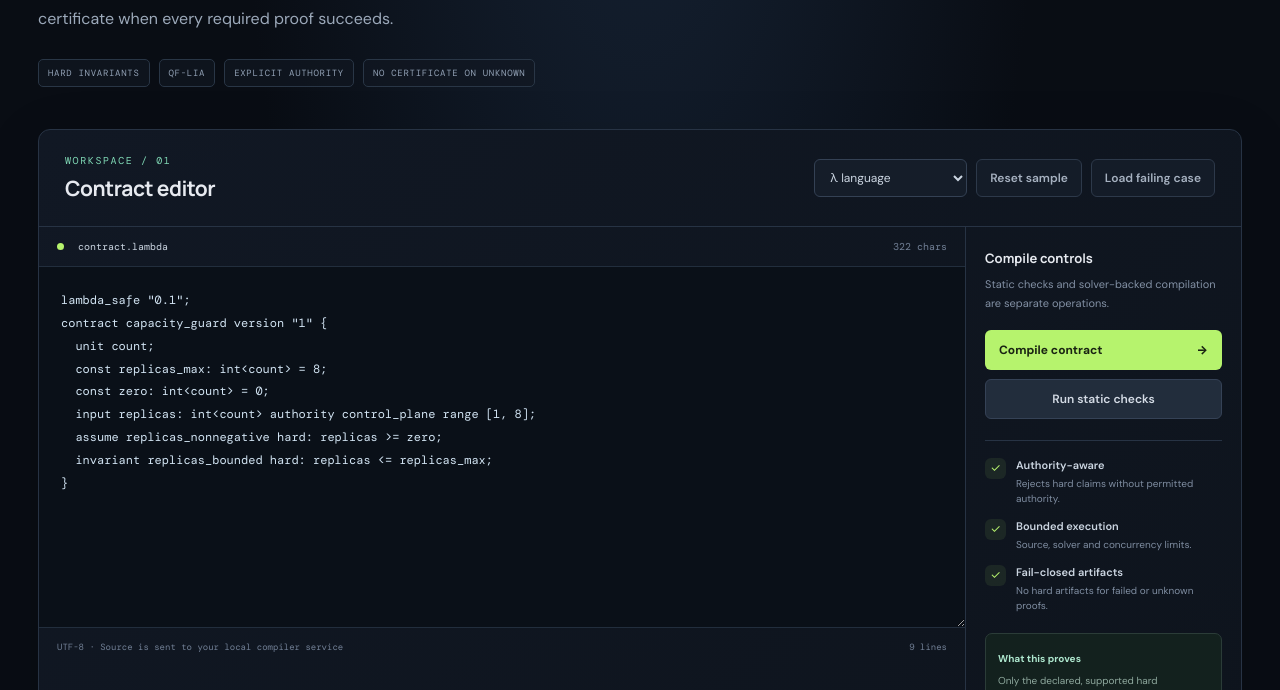
it: λ-Safe compiler UI › does not invent artifacts when compilation returns none
The width and height of the screenshot is (1280, 690).
(page scrolled)
Click the button "Compile contract →".
click(1104, 350)  # box [985, 330, 1222, 370]
(page scrolled)
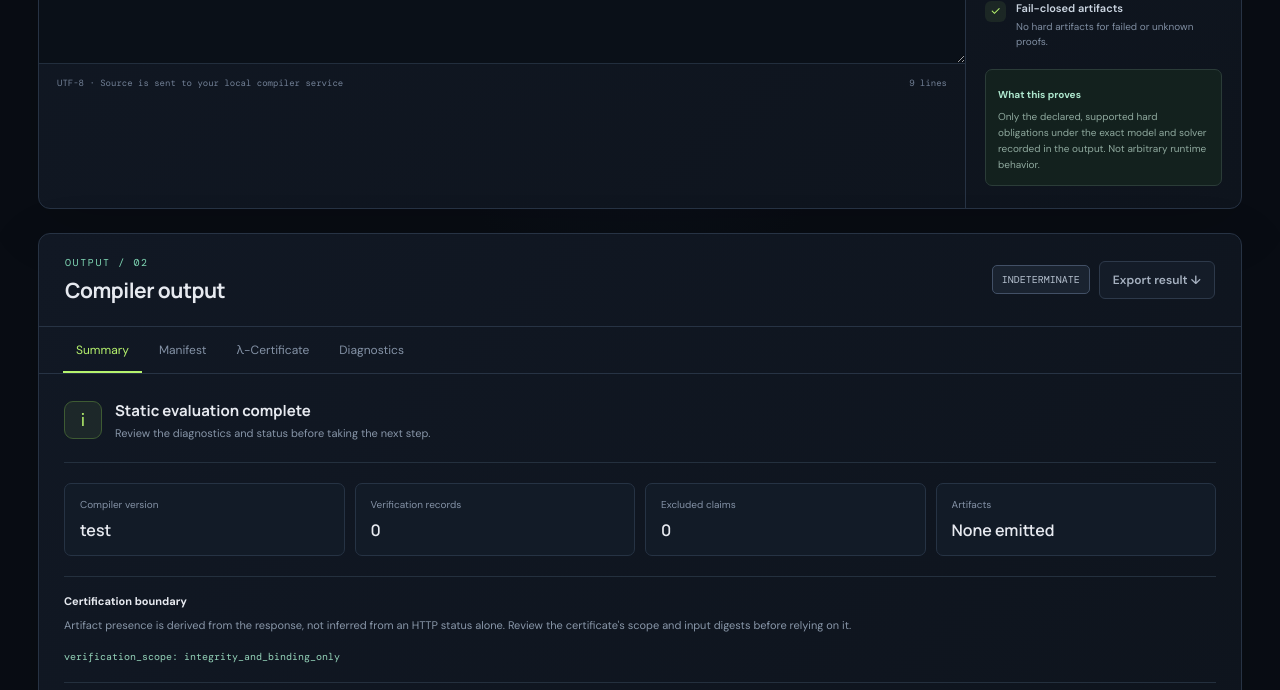
Now the text "INDETERMINATE" is shown, box [992, 265, 1090, 294]
Click the tab "Manifest".
click(183, 350)  # box [146, 327, 219, 373]
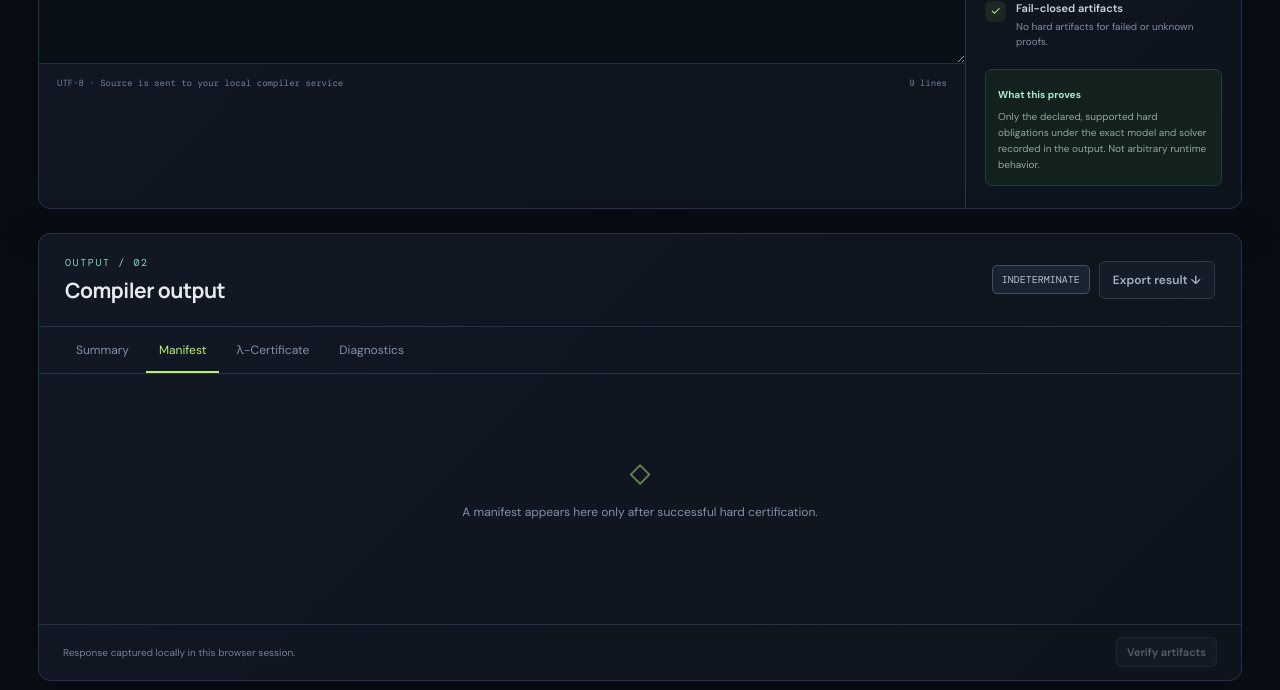
Now the text "A manifest appears here only after successful hard certification" is shown, box [462, 504, 818, 520]
